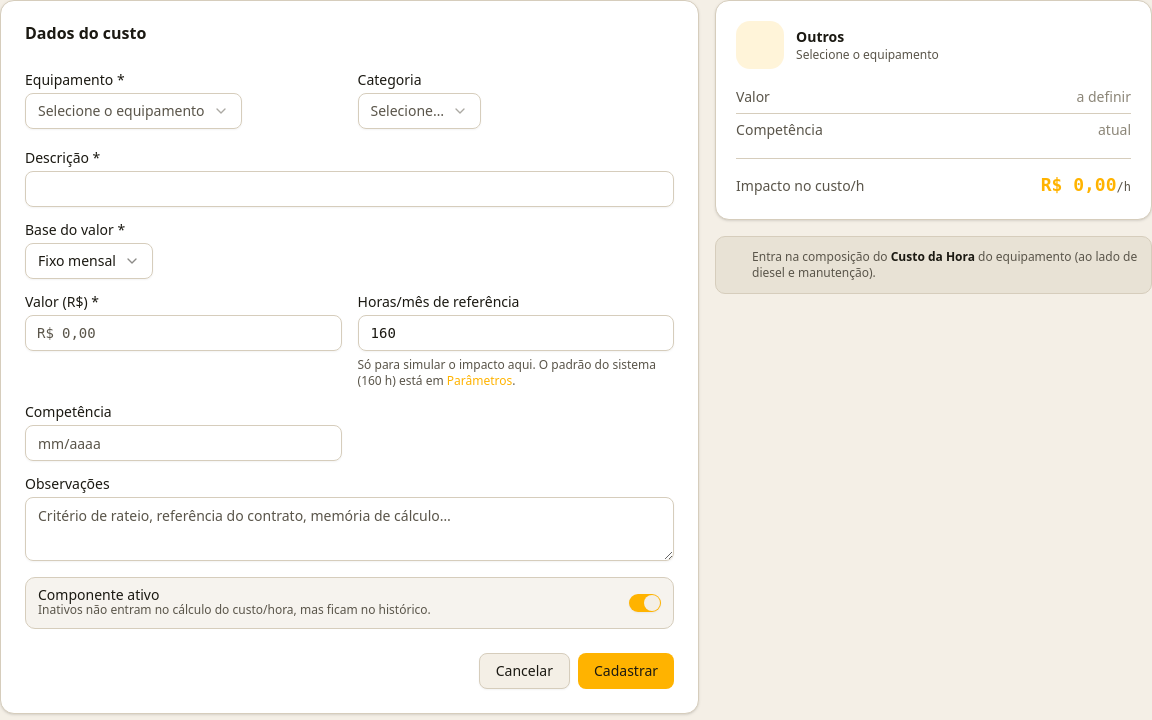
it: ComponenteCustoForm › mostra R$ 0,00 (sem NaN/Infinity) quando horas de referência é zero
Type "Seguro" into the field labelled "Descrição *" at point(350, 189), box [25,171,674,207]
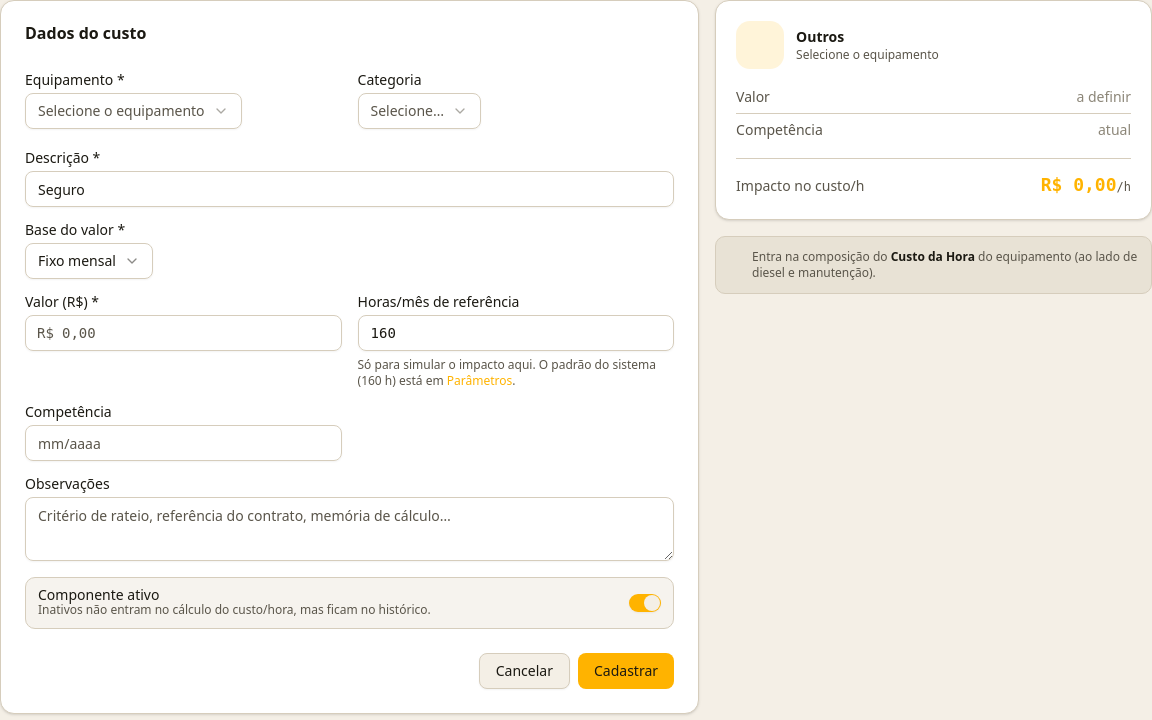
Type "38000" into the field labelled "Valor (R$) *" at point(183, 333), box [25,315,342,351]
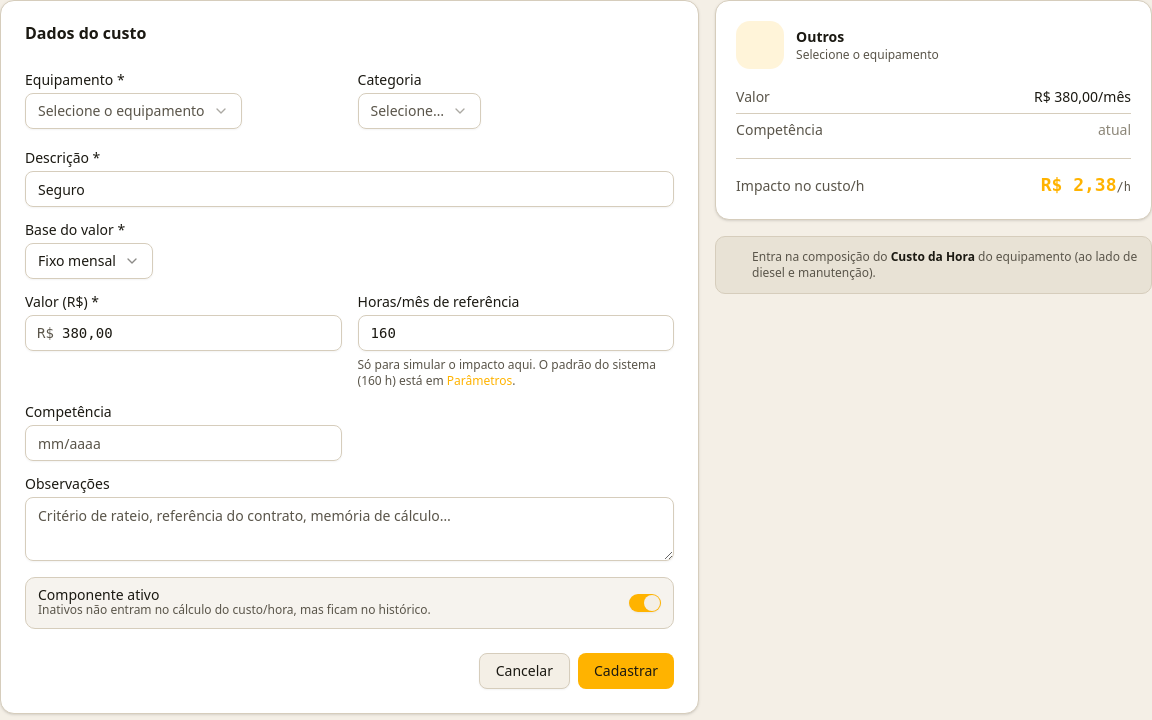
Replace the text in the number field labelled "Horas/mês de referência" with "0" at point(516, 333), box [358,315,674,351]
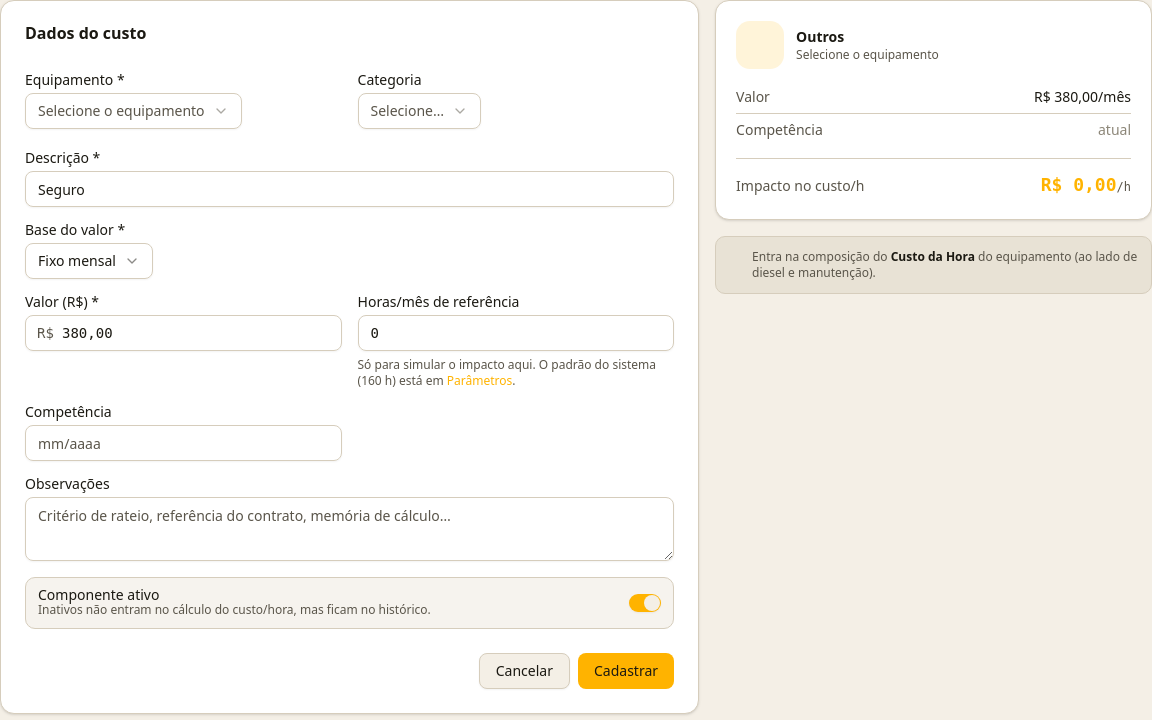
Check: the text "R$ 0,00" is shown, box [1041,174,1117,195]
